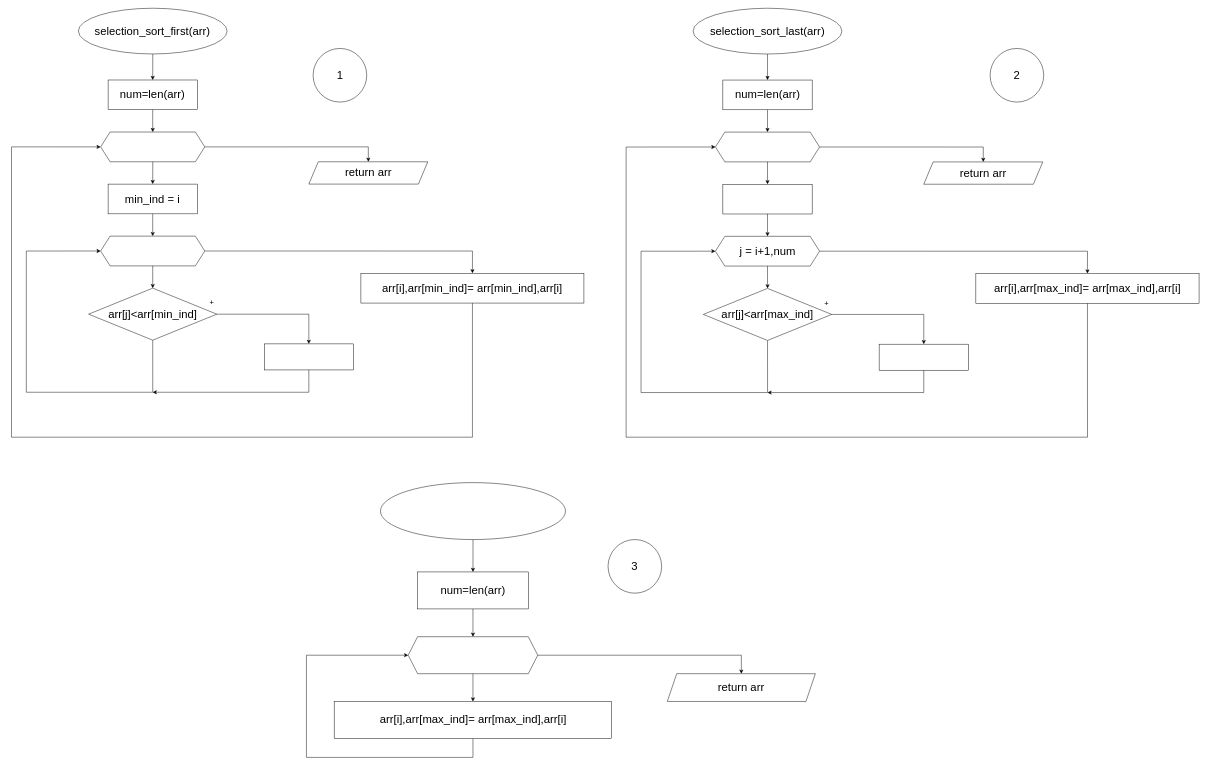
Image size: 1207x769. Some labels were removed from this diagram. Here are the shapes that lost their labels. From the top down, the centre of each, then its label:
At point (152, 147): "i = 0,5".
At point (767, 147): "i = num-5,num".
At point (767, 199): "max_ind = i".
At point (152, 251): "j = i+1,5".
At point (308, 356): "min_ind = j".
At point (923, 357): "max_ind = j".
At point (473, 511): "selection_sort_middle(arr)".
At point (473, 655): "i = 5,num//2".
